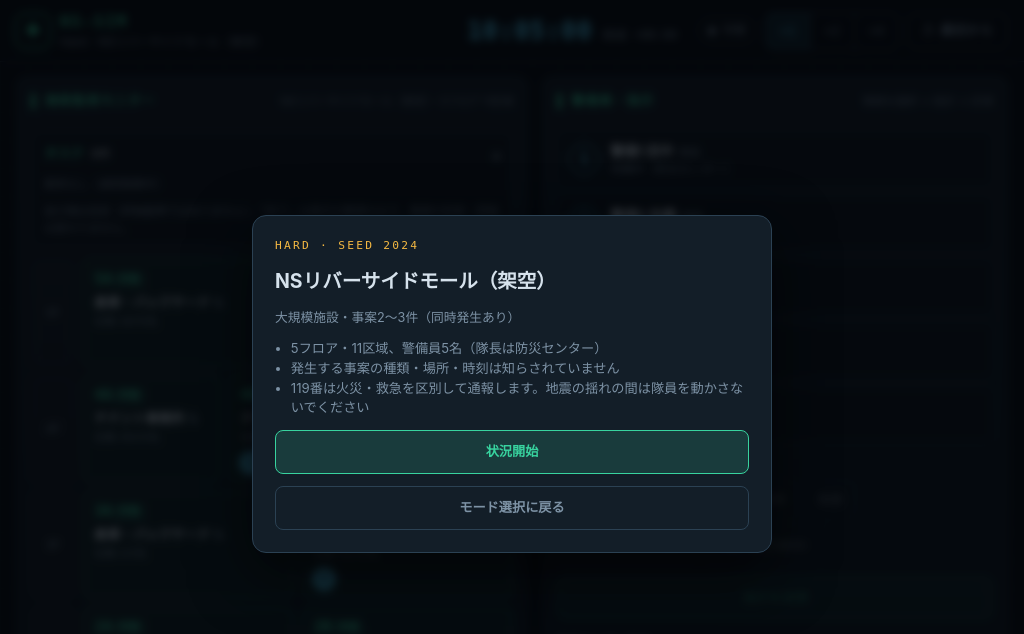
v0.4 マップ直接指示 › 従来の指示画面からも指示できる
Click the button "状況開始": (512, 452) [275,430,749,474]
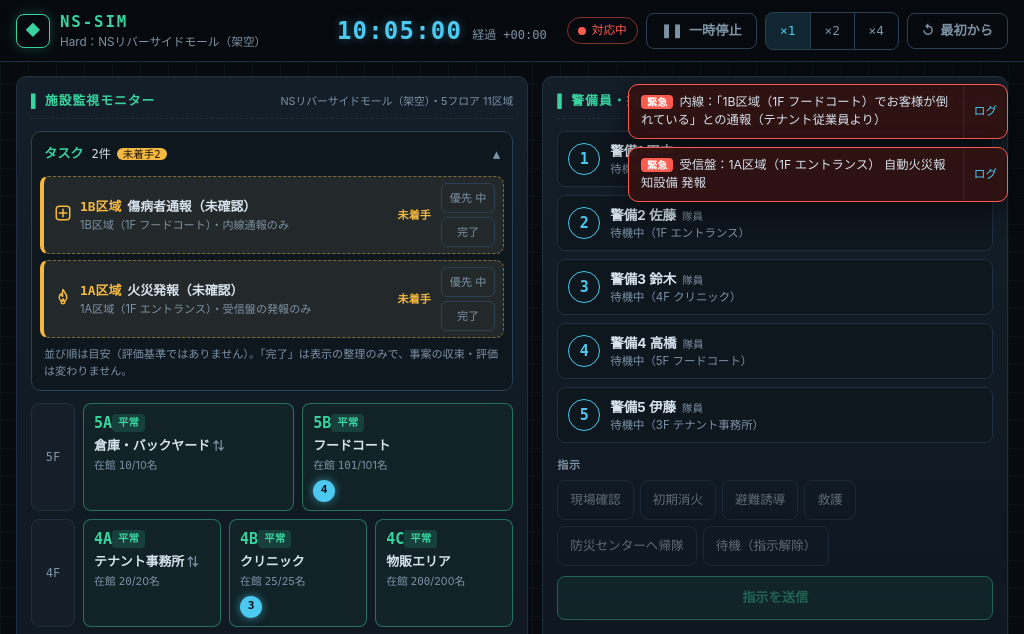
Click the button "❚❚ 一時停止": (701, 31) [646,13,757,49]
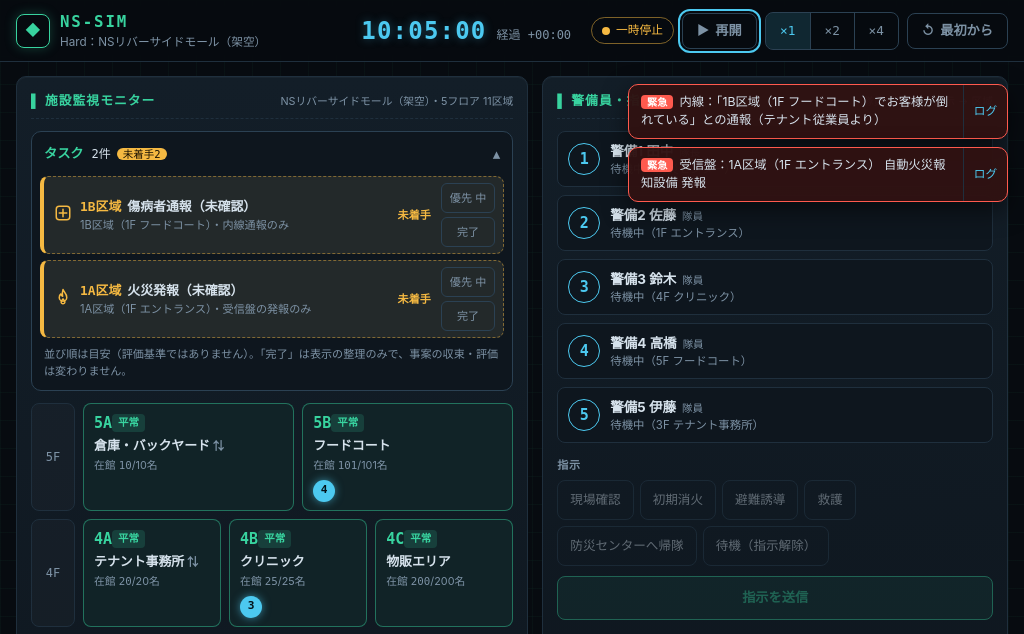
Click the radio button labelled "警備1": (584, 159) [557,131,993,187]
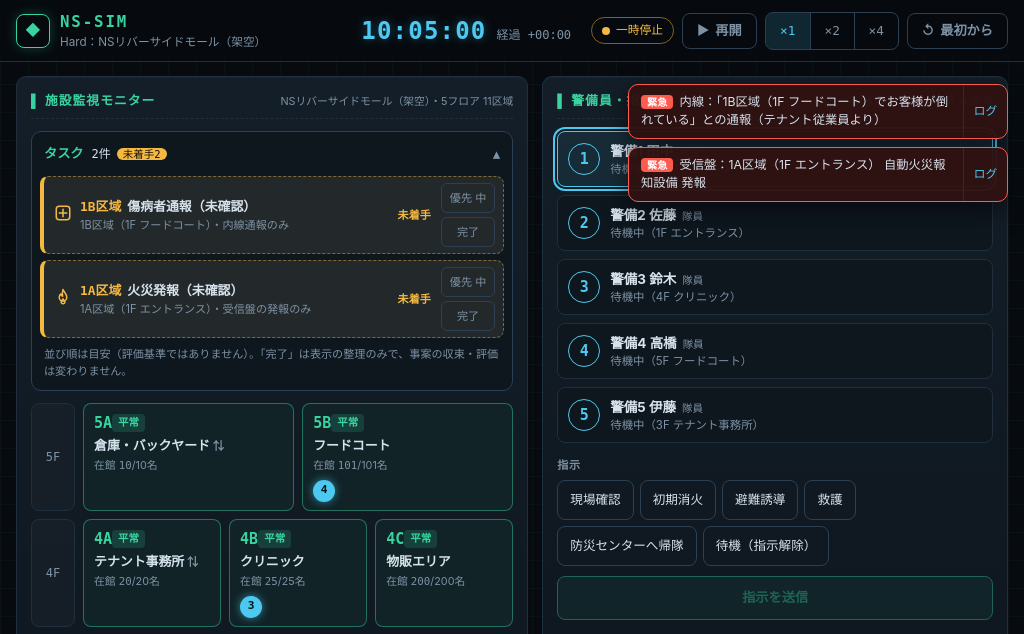
Click the button "現場確認": (596, 500) [557,480,634,520]
(page scrolled)
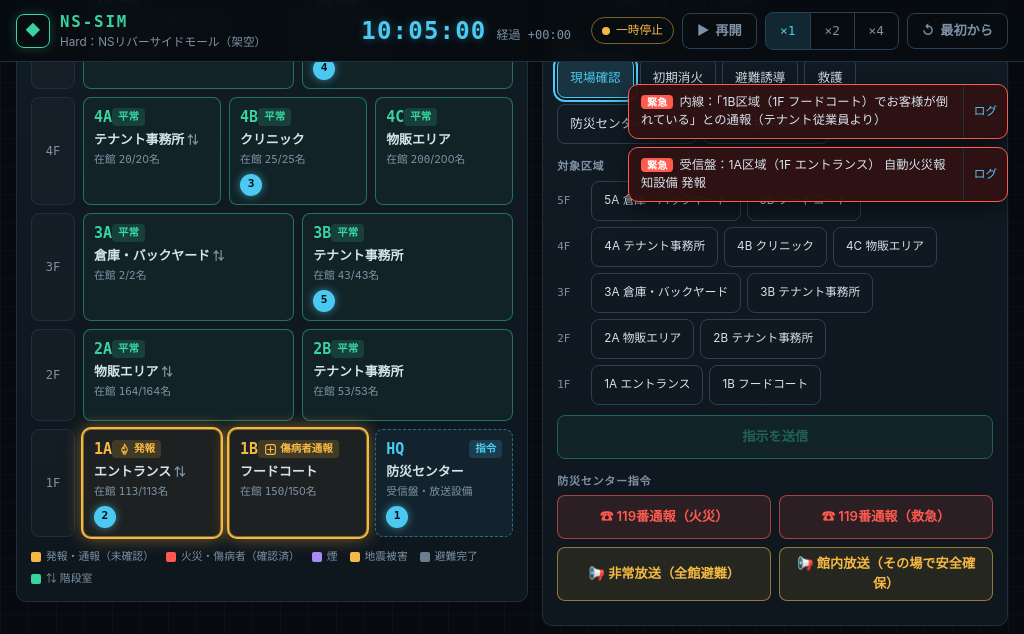
Click the button "1A エントランス": (647, 385) [591,365,703,405]
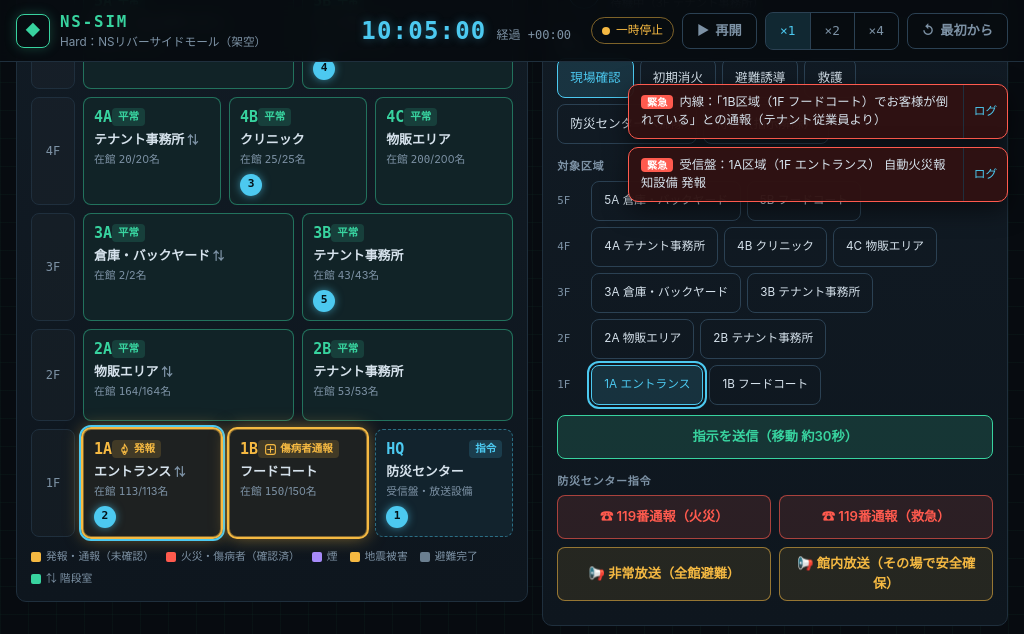
Click the button "指示を送信（移動 約30秒）": (775, 437) [557,415,993,459]
(page scrolled)
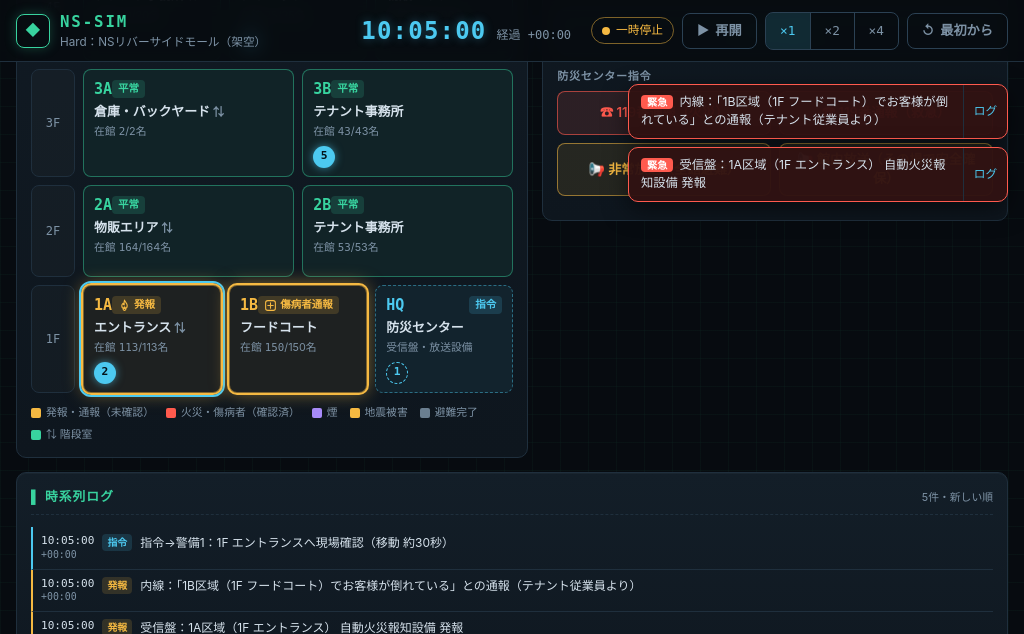
Expected: the element "時系列ログ" shows "指令→警備1", [140,535,454,550]
